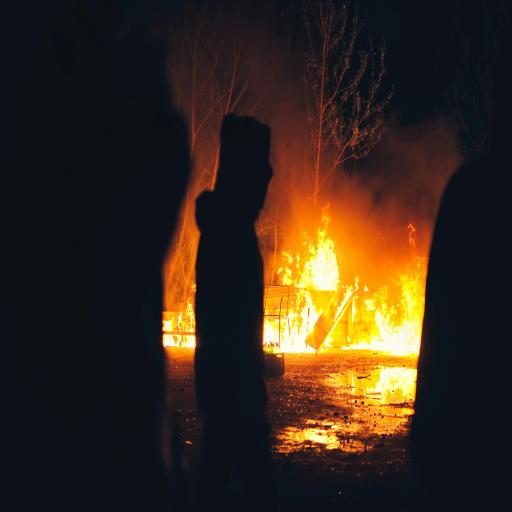wildfire: (87, 0, 512, 428)
